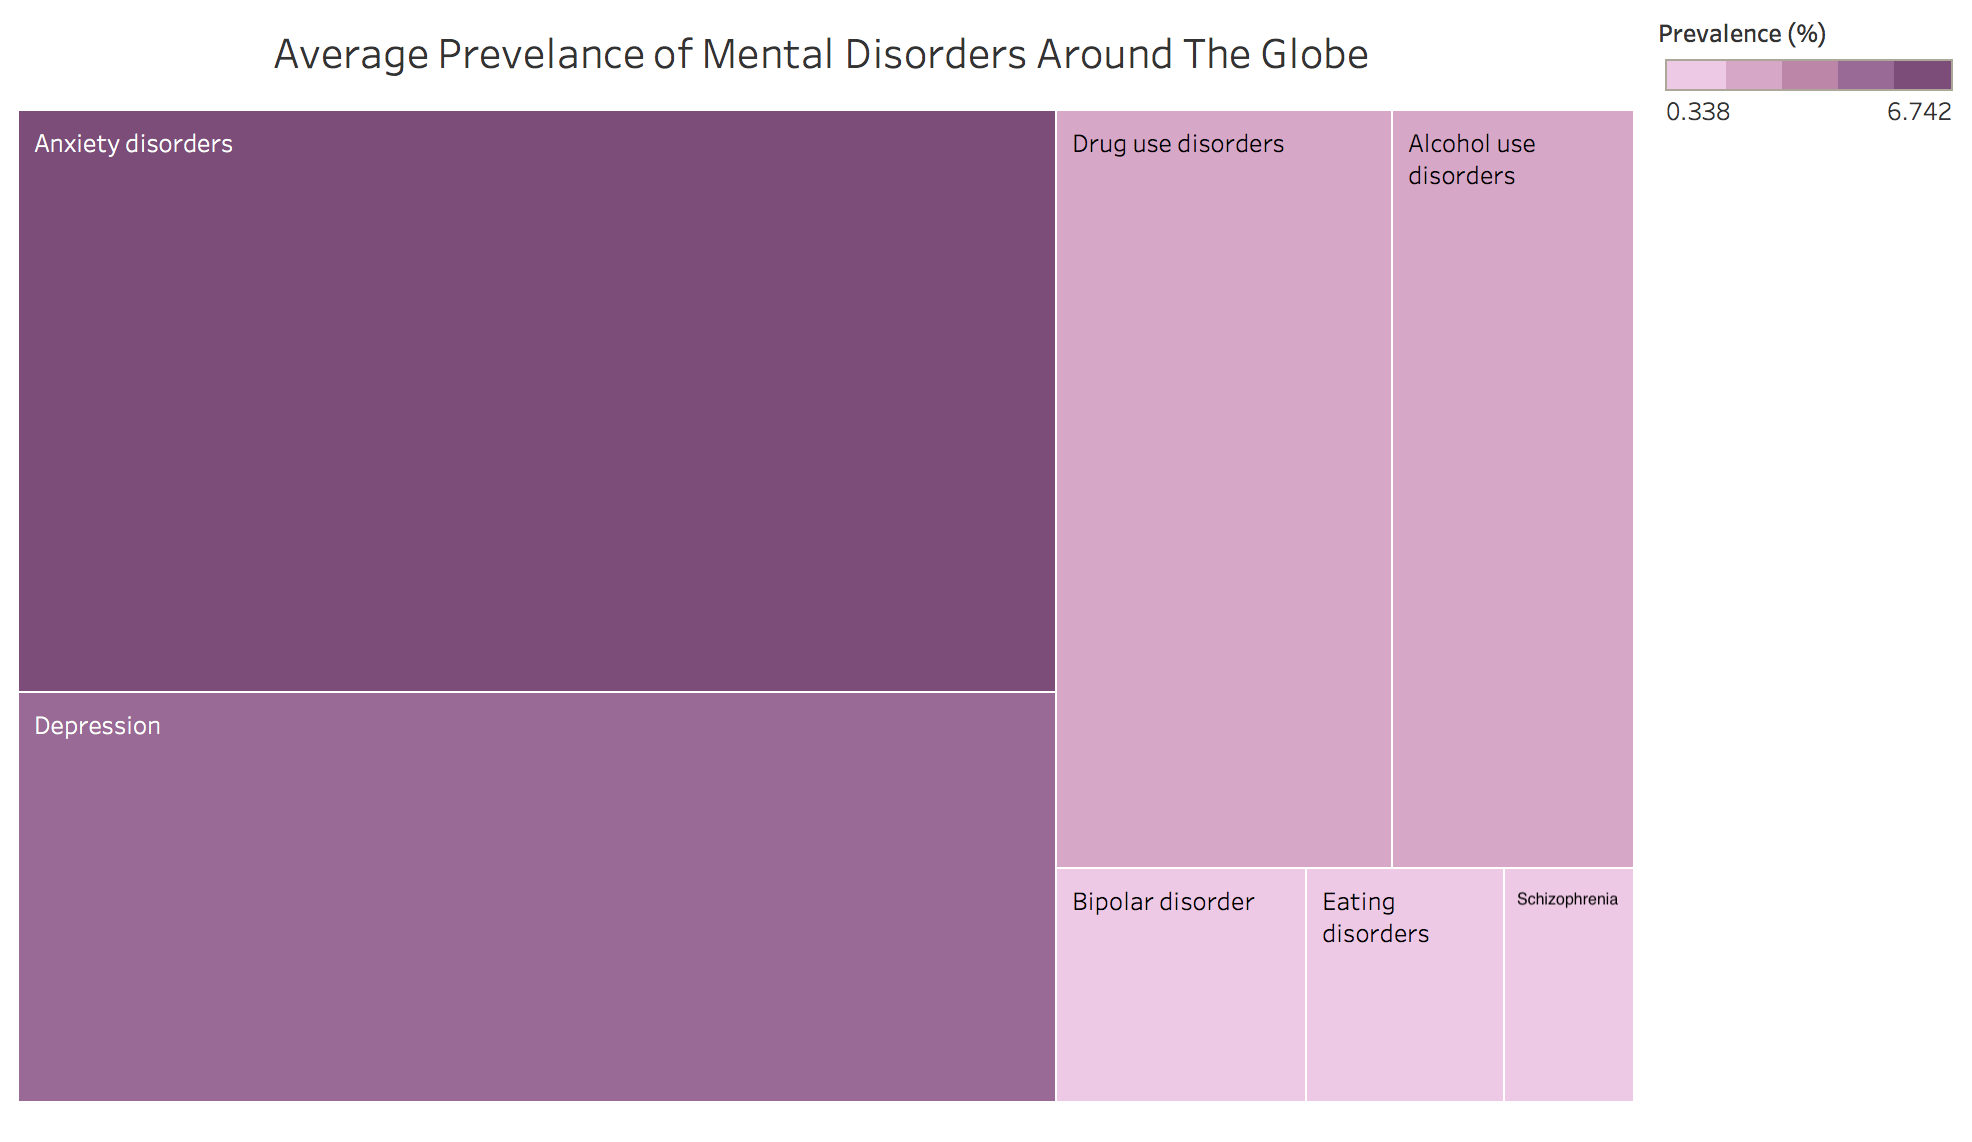

This screenshot's page, from the dashboard's own definition file:
{"tool":"tableau","page":{"name":"Dashboard 1","canvas":[1000,800],"ordinal":0},"visuals":[{"type":"worksheet","title":"Sheet 4","mark":"Automatic","box":[8,8,824,784]},{"type":"legend","title":"Sheet 4","param":"[federated.0pt2vkq0hfuvb31849lue0dyv85i].[sum:prevalence:qk]","box":[832,8,160,65]}]}

Visuals, with their boxes on the page's 1000x800 design canvas (x1, y1, x2, y2). These are canvas units, not pixel positions in the 1972x1142 screenshot, which may show the page scaled, cropped or inside an application window:
"Sheet 4" worksheet: [8, 8, 832, 792]
"Sheet 4" legend: [832, 8, 992, 73]
